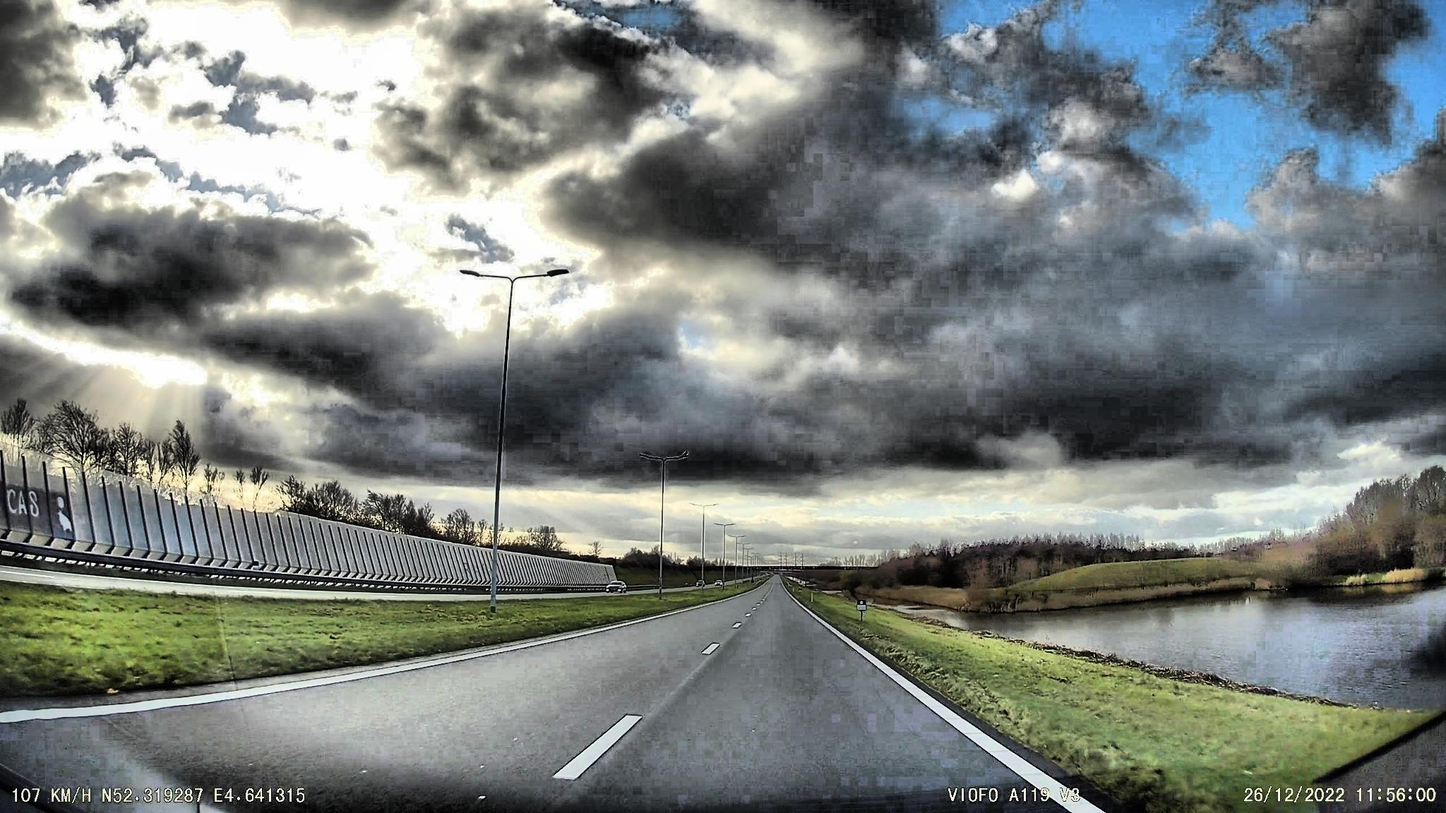Roads: (0, 581, 1108, 813)
